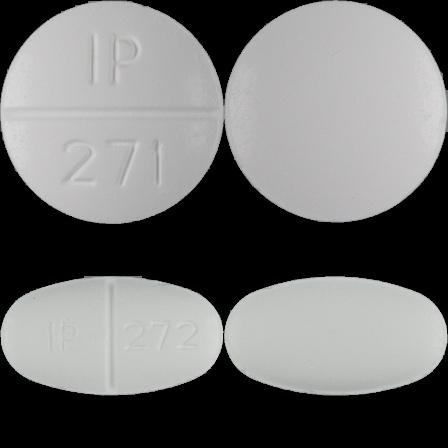42291-758: (0, 0, 224, 224)
